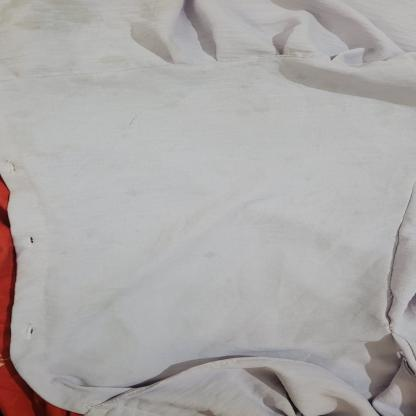spot: (3, 3, 121, 37), (44, 9, 111, 28), (94, 51, 136, 65), (119, 185, 140, 198), (233, 82, 261, 91), (201, 250, 226, 260)
